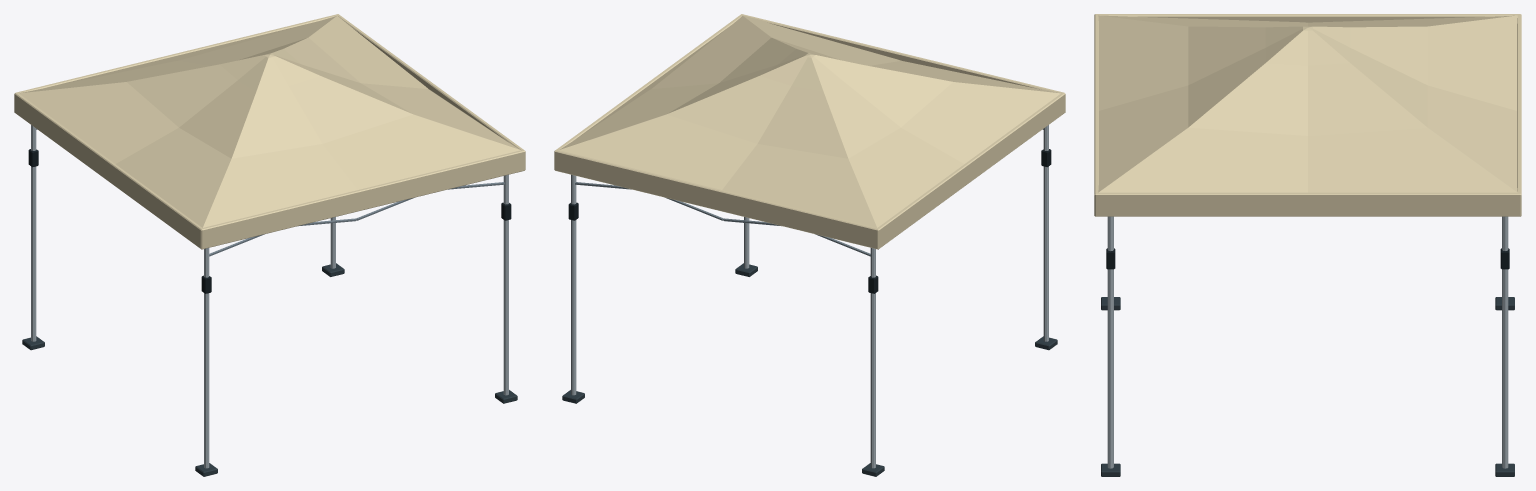
Rendered from b20_pop_up_event_canopy.glb.
The picture shows the model from 3 angles, left to right: view 1: azimuth 30°, elevation 25°; view 2: azimuth 150°, elevation 25°; view 3: azimuth 270°, elevation 25°; orthographic projection. The views are drawn at different scales.
Visible parts, largest first — view 1: b20_pop_up_event_canopy; view 2: b20_pop_up_event_canopy; view 3: b20_pop_up_event_canopy.
Boxes of the visible parts, bbox=[...] form: b20_pop_up_event_canopy: bbox=[14, 14, 525, 476]; b20_pop_up_event_canopy: bbox=[554, 14, 1065, 476]; b20_pop_up_event_canopy: bbox=[1094, 14, 1521, 476].
Bounding box in the file's own units: 3.04 × 2.84 × 3.04.
